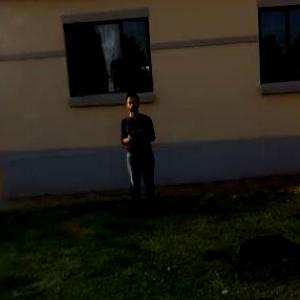follow: (120, 88, 162, 222)
null: (223, 229, 300, 286)
